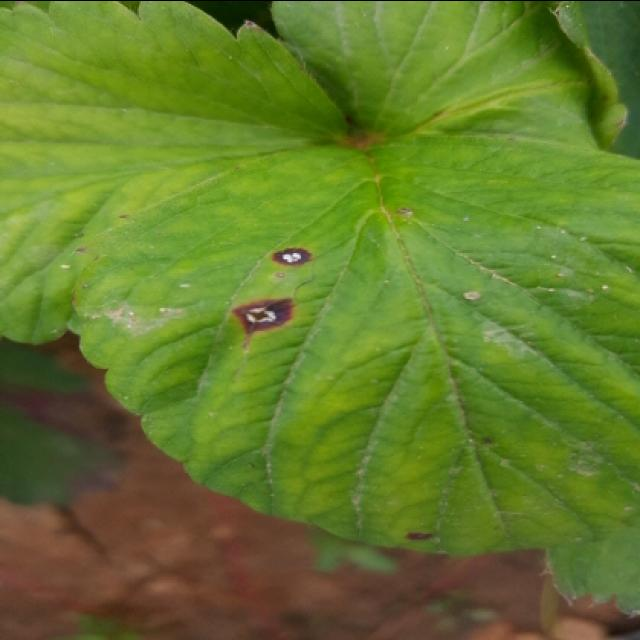Leaf Spot: (68, 130, 638, 553)
